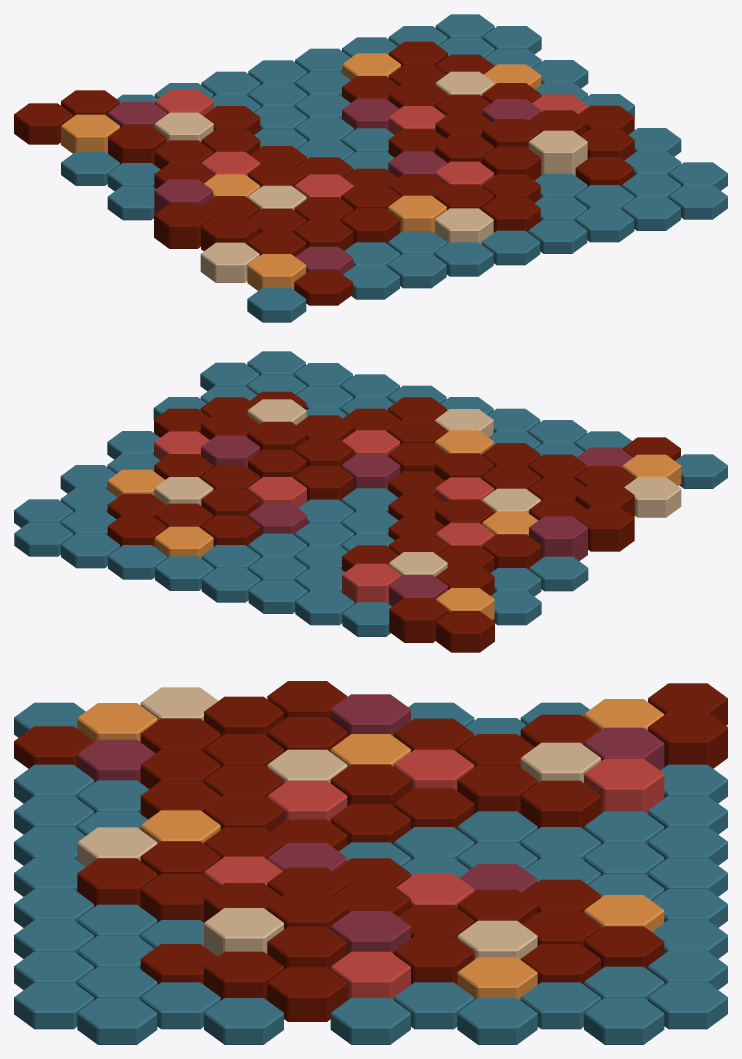
The model's file is map-test.glb.
3 views of the same model, one above another, from view 1: azimuth 30°, elevation 25°; view 2: azimuth 150°, elevation 25°; view 3: azimuth 270°, elevation 25° (orthographic). The views are drawn at different scales.
Visible parts, largest first — view 1: row_1, row_3, row_4, row_2, row_5, row_9, row_8, row_6, row_7, row_11_1, row_10_1, row_10_10 (+15 smaller); view 2: row_6, row_5, row_7, row_9, row_8, row_4, row_1, row_3, row_2, row_11_1, row_11_2, row_10_3 (+17 smaller); view 3: row_4, row_6, row_5, row_1, row_2, row_3, row_8, row_9, row_7, row_10_3, row_11_2, row_10_10 (+17 smaller).
Boxes of the visible parts, x1,y1,x2,y2 form: row_1: (247, 185, 727, 322); row_3: (200, 151, 681, 282); row_4: (201, 128, 681, 250); row_2: (247, 162, 727, 290); row_5: (154, 105, 634, 248); row_9: (61, 48, 541, 185); row_8: (107, 60, 588, 191); row_6: (154, 94, 634, 214); row_7: (107, 82, 587, 220); row_11_1: (14, 103, 72, 144); row_10_1: (61, 114, 119, 153); row_10_10: (482, 26, 541, 54); row_6: (107, 431, 587, 561); row_5: (154, 408, 634, 551); row_7: (107, 453, 588, 591); row_9: (60, 488, 541, 625); row_8: (60, 465, 541, 596); row_4: (153, 397, 634, 517); row_1: (247, 351, 727, 488); row_3: (200, 385, 681, 517); row_2: (200, 362, 681, 485); row_11_1: (436, 611, 494, 652); row_11_2: (389, 598, 448, 642); row_10_3: (342, 563, 400, 604); row_4: (204, 696, 283, 1044); row_6: (330, 694, 410, 1044); row_5: (267, 681, 347, 1021); row_1: (14, 702, 93, 1029); row_2: (77, 703, 157, 1044); row_3: (140, 687, 220, 1029); row_8: (457, 718, 537, 1044); row_9: (520, 702, 600, 1029); row_7: (394, 702, 474, 1029); row_10_3: (584, 758, 664, 813); row_11_2: (648, 712, 727, 768); row_10_10: (584, 998, 664, 1044).
Size of the model in its own units: 18.84 by 1.26 by 17.47.
